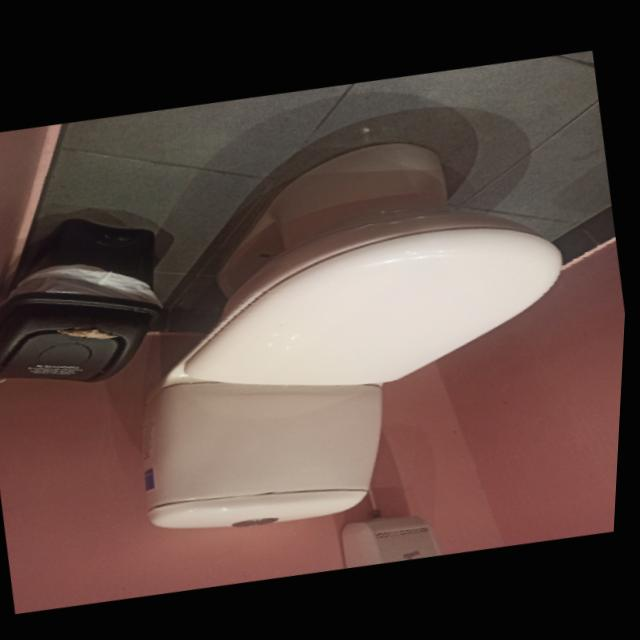toilet: (78, 92, 625, 565)
